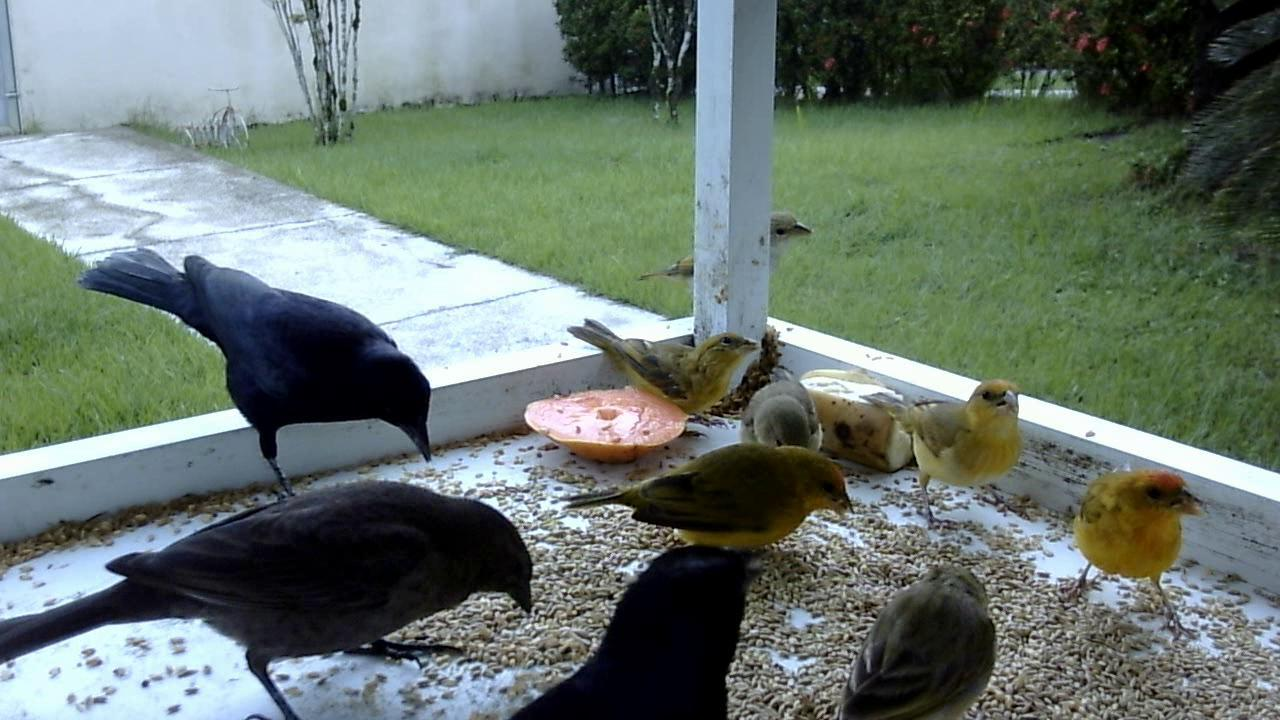canario_do_amazonas: (561, 433, 855, 570), (827, 554, 1000, 715), (567, 307, 770, 437), (1062, 466, 1205, 642), (890, 374, 1032, 540), (739, 387, 822, 461)
chupim: (4, 463, 546, 720), (63, 236, 442, 518), (487, 538, 770, 715)
